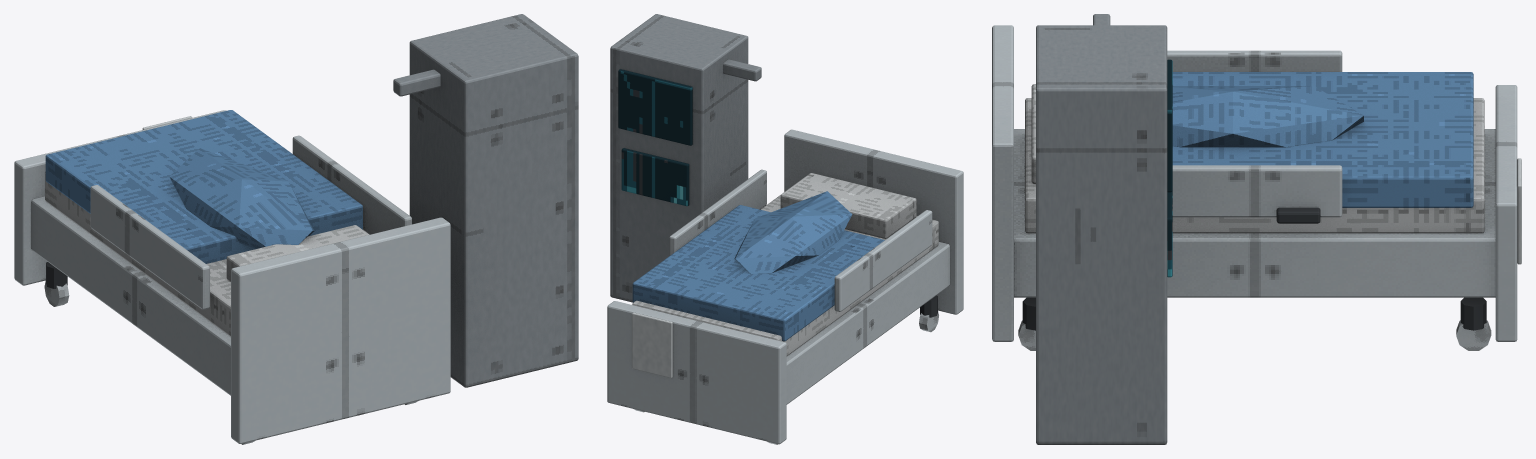
The model's file is base_med_icu.glb.
3 views of the same model, side by side, from view 1: azimuth 30°, elevation 25°; view 2: azimuth 150°, elevation 25°; view 3: azimuth 270°, elevation 25° (orthographic). The views are drawn at different scales.
Parts seen in each view (by area): view 1: base_med_icu; view 2: base_med_icu; view 3: base_med_icu.
Part boxes in pixels (x1,y1,x2,y2): base_med_icu: (14, 14, 578, 444); base_med_icu: (607, 14, 963, 444); base_med_icu: (992, 14, 1521, 444).
Size of the model in its own units: 2.2 by 1.8 by 2.42.
Materials: 7 (7 with a texture image).
